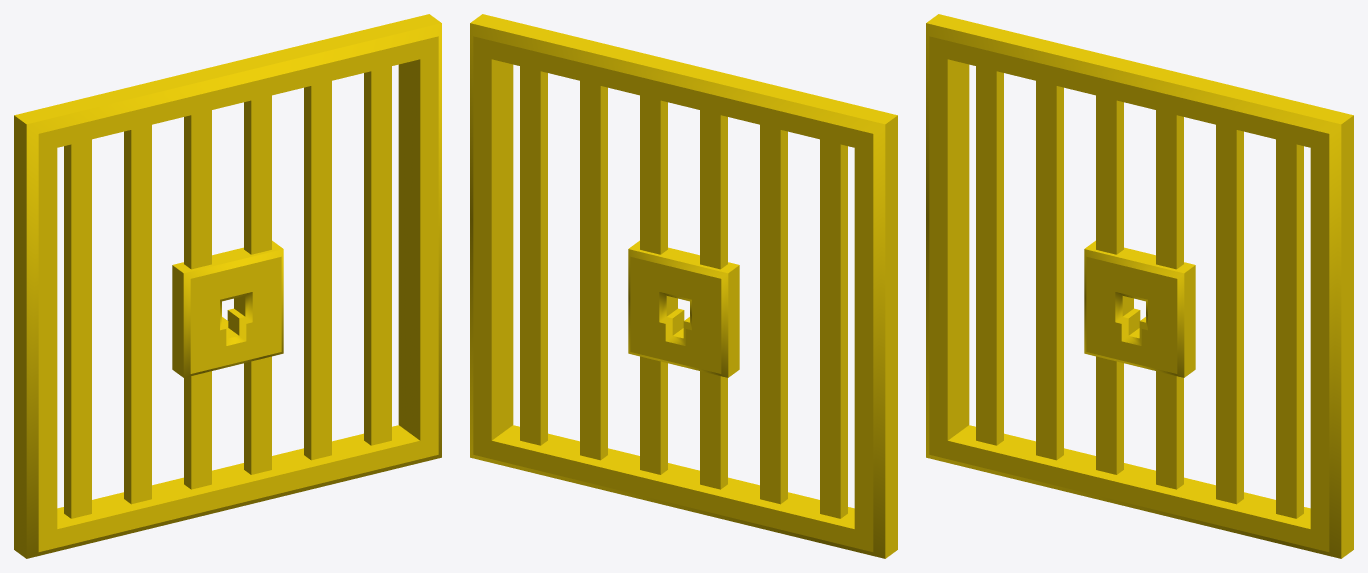
Rendered from Gate.fbx.
3 views of the same model, side by side, from view 1: azimuth 30°, elevation 25°; view 2: azimuth 150°, elevation 25°; view 3: azimuth 330°, elevation 25° (orthographic).
Parts seen in each view (by area): view 1: Gate; view 2: Gate; view 3: Gate.
Boxes of the visible parts, x1,y1,x2,y2 form: Gate: [14, 14, 441, 558]; Gate: [470, 14, 897, 558]; Gate: [926, 14, 1353, 558].
Bounding box in the file's own units: 831 × 831 × 74.
